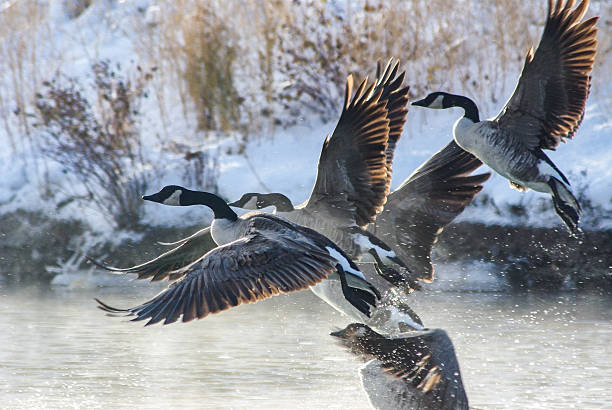goose: (137, 182, 382, 322), (407, 84, 590, 246), (228, 186, 360, 258)
